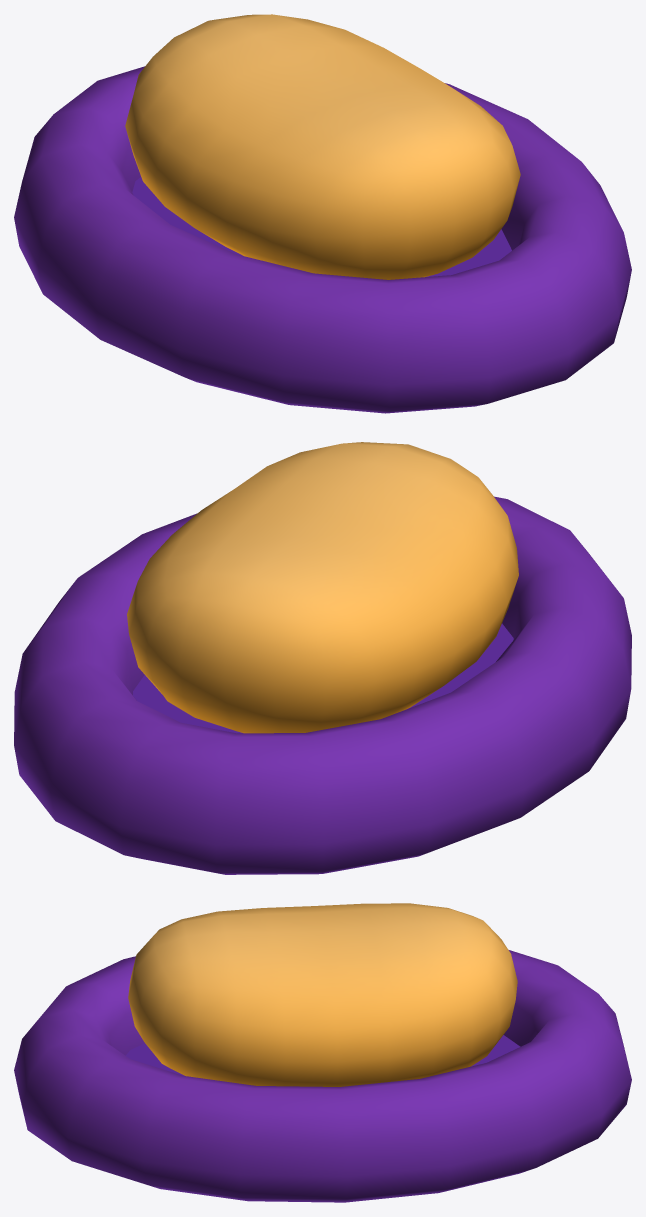
File: Soap_02.glb
3 renders of one model, top to bottom at view 1: azimuth 30°, elevation 25°; view 2: azimuth 150°, elevation 25°; view 3: azimuth 270°, elevation 25°, orthographic. The views are drawn at different scales.
Parts seen in each view (by area): view 1: Soap_02; view 2: Soap_02; view 3: Soap_02.
Boxes of the visible parts, box(x1,y1,x2,y2) form: Soap_02: box(14, 14, 631, 413); Soap_02: box(14, 442, 631, 874); Soap_02: box(14, 903, 631, 1202).
Bounding box in the file's own units: 0.1035 × 0.0436 × 0.1333.
1 material, 1 textured.
